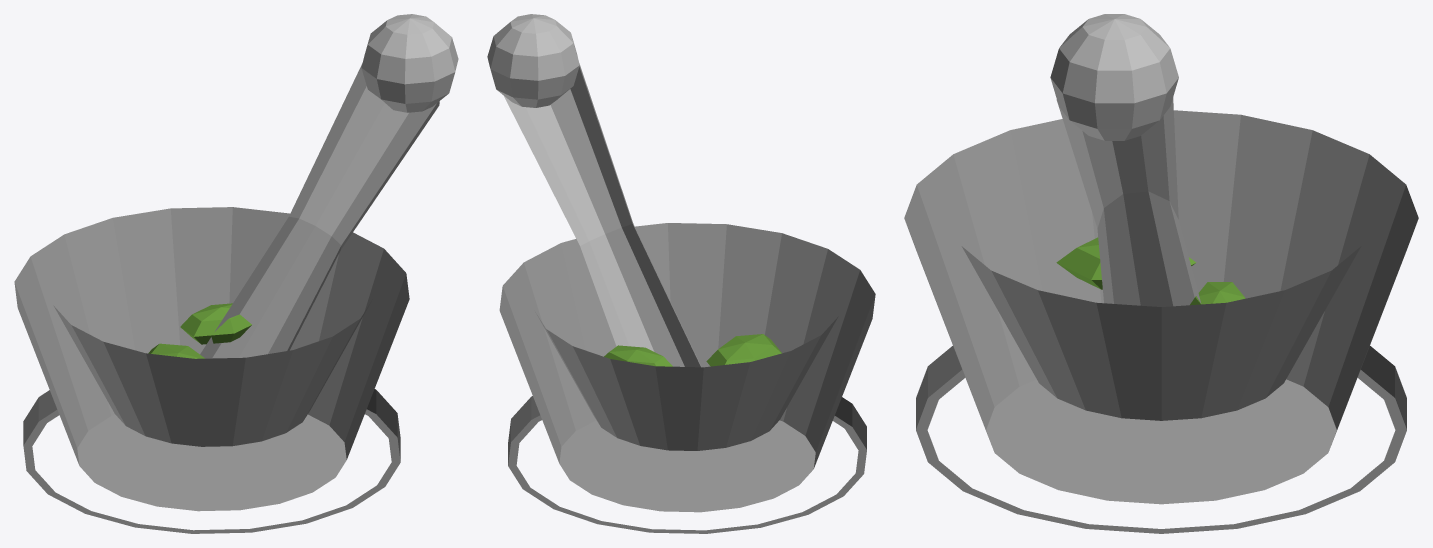
Rendered from mortel.glb.
The picture shows the model from 3 angles, left to right: view 1: azimuth 30°, elevation 25°; view 2: azimuth 150°, elevation 25°; view 3: azimuth 270°, elevation 25°; orthographic projection. The views are drawn at different scales.
Parts seen in each view (by area): view 1: mortel; view 2: mortel; view 3: mortel.
Boxes of the visible parts, left/top/right/bottom form: mortel: left=14, top=14, right=458, bottom=533; mortel: left=487, top=14, right=875, bottom=533; mortel: left=904, top=14, right=1418, bottom=533.
Size of the model in its own units: 0.5023 by 0.495 by 0.44.
